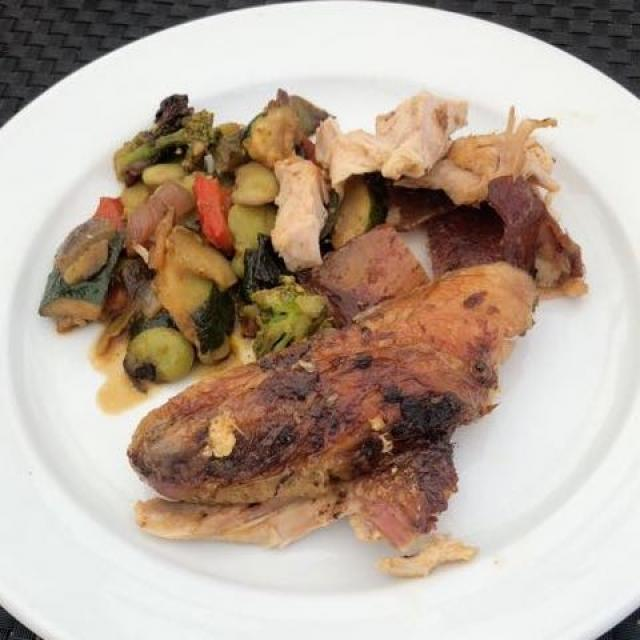chicken: (142, 258, 545, 552)
pork: (278, 78, 586, 294)
ratatouille: (44, 72, 444, 392)
